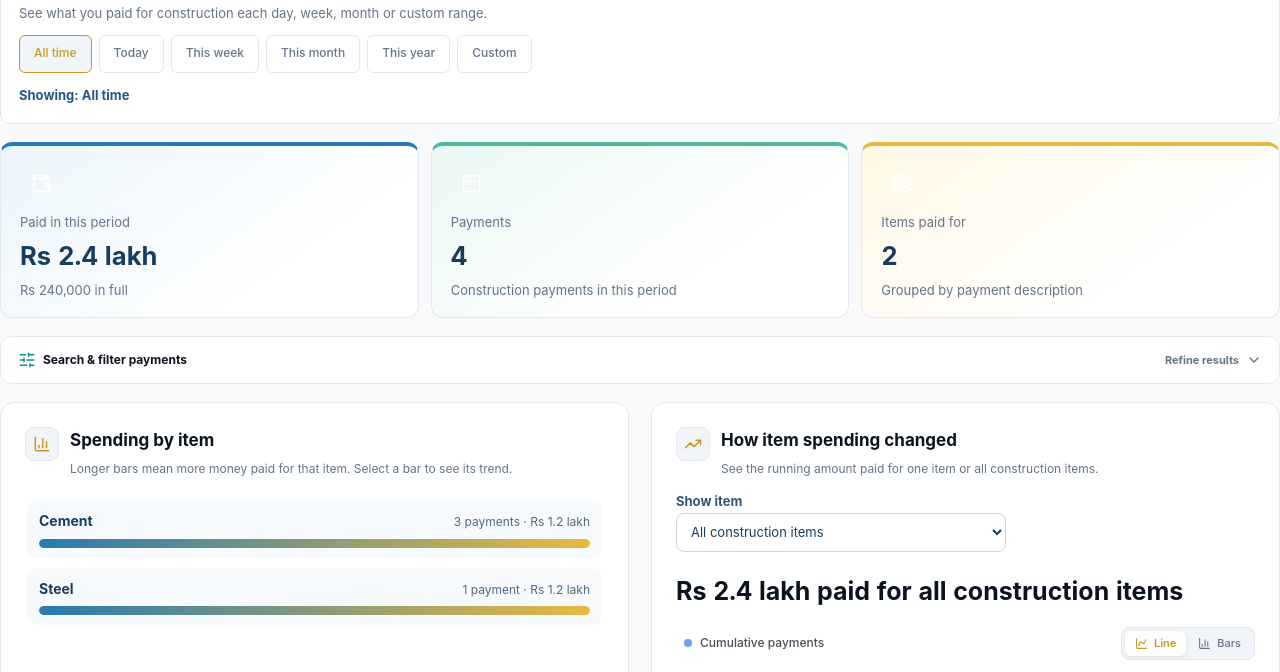
Scenario: ConstructionCostInsights › groups item names and lets a bar focus the line chart and payments
Click the button "Cement 3 payments · Rs 1.2 lakh". click: coordinates (66, 520)
box: [27,500,602,558]
(page scrolled)
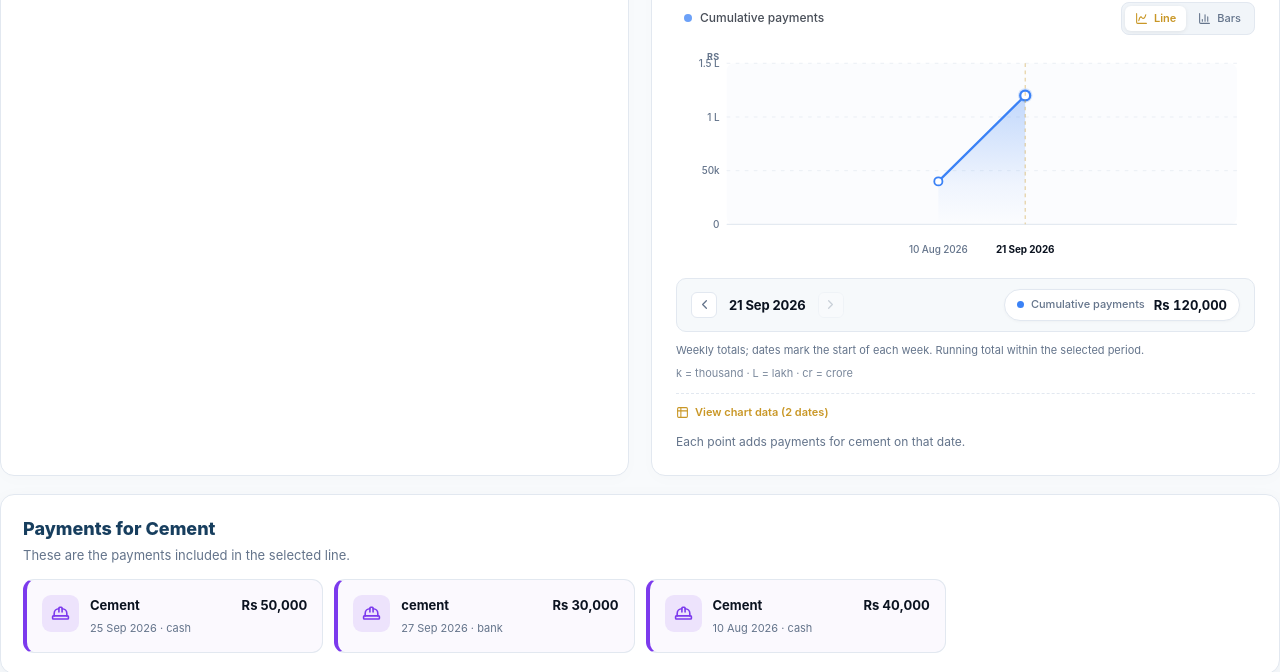
expect the picture named "Cement spending rose to Rs 120,000" is shown: met, box [676,47,1255,264]
expect the heading "Payments for Cement" is shown: met, box [23,518,215,539]
